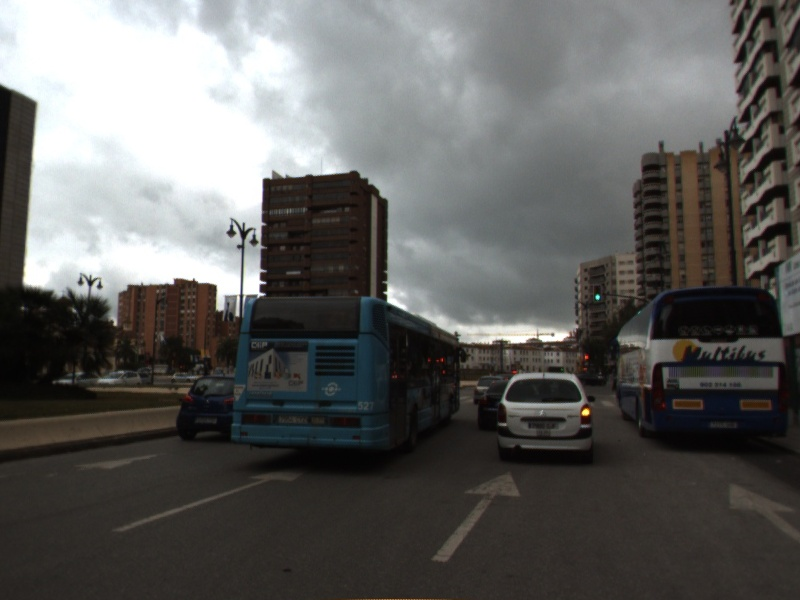STRAIGHT: (109, 465, 312, 535), (427, 467, 525, 566), (724, 477, 800, 543)
